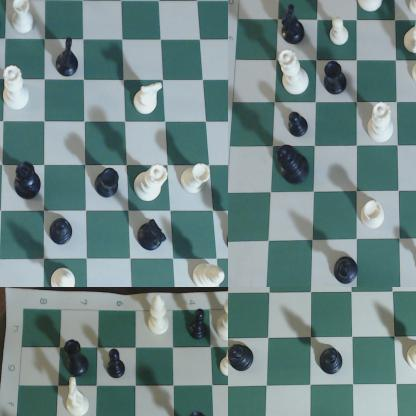black-bishop: (229, 342, 258, 375), (316, 351, 349, 379), (334, 257, 360, 286), (50, 215, 73, 246)
black-king: (276, 143, 316, 186)
black-knight: (282, 5, 311, 47), (135, 220, 168, 255), (56, 39, 81, 82)
black-pawn: (104, 345, 129, 380), (286, 107, 312, 139), (190, 308, 210, 344)
black-queen: (13, 160, 44, 205)
black-rook: (59, 337, 92, 379), (321, 58, 350, 96), (94, 169, 120, 205)
white-bishop: (136, 292, 174, 342), (193, 260, 227, 287), (50, 268, 79, 287), (408, 338, 416, 377)
white-king: (215, 288, 228, 345), (357, 1, 389, 21)
white-knight: (64, 377, 94, 416), (134, 81, 166, 116), (403, 15, 416, 54)
white-pawn: (327, 23, 354, 48), (216, 349, 228, 388), (405, 1, 416, 18)
white-queen: (1, 62, 33, 114), (135, 160, 171, 205), (277, 49, 310, 97), (365, 102, 399, 143)
white-rook: (179, 160, 213, 195), (11, 1, 40, 39), (360, 197, 387, 233)
